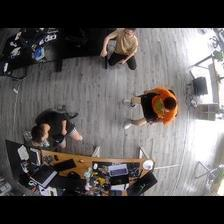normal: (122, 87, 177, 141), (30, 106, 81, 148), (99, 28, 142, 73)
